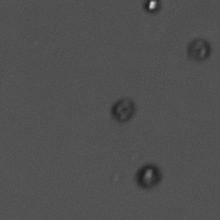Dead Cell: (107, 93, 140, 127), (183, 34, 216, 68), (131, 162, 165, 190)
Living Cell: (139, 1, 166, 17)
